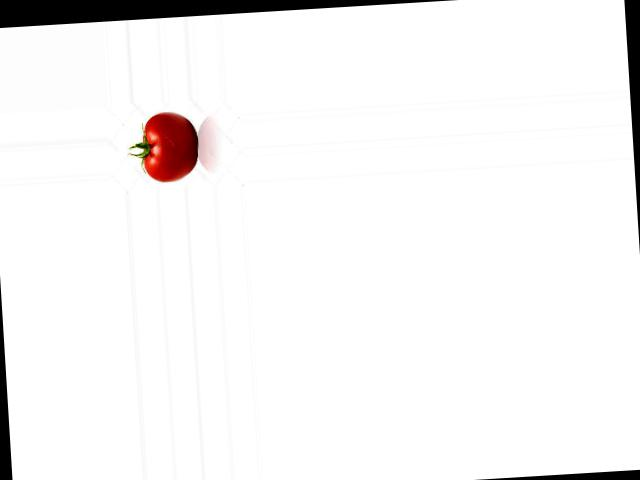tomato: (141, 109, 199, 183)
